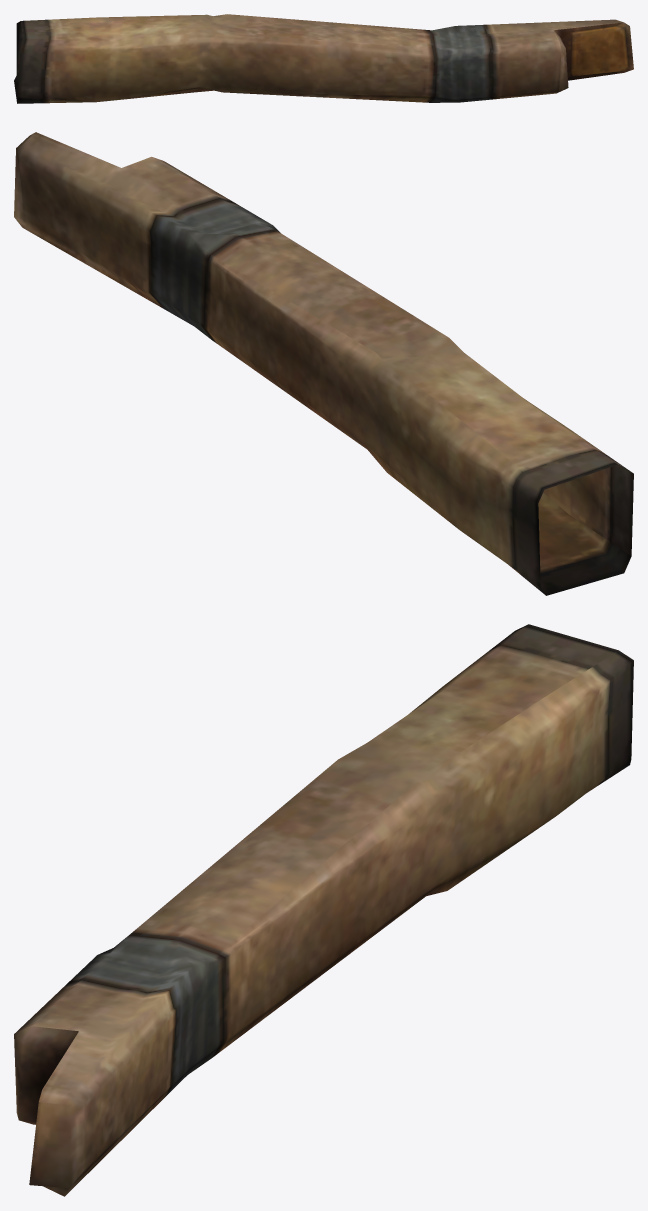
File: current_transformer_broken_lever.dae
The picture shows the model from 3 angles, top to bottom: view 1: azimuth 30°, elevation 25°; view 2: azimuth 150°, elevation 25°; view 3: azimuth 270°, elevation 25°; orthographic projection. The views are drawn at different scales.
Parts seen in each view (by area): view 1: arm; view 2: arm; view 3: arm.
Part boxes in pixels (left/top/right/bottom): arm: left=14, top=14, right=633, bottom=103; arm: left=14, top=132, right=633, bottom=595; arm: left=14, top=624, right=633, bottom=1196.
Bounding box in the file's own units: 1.61 × 0.2174 × 0.9104.
